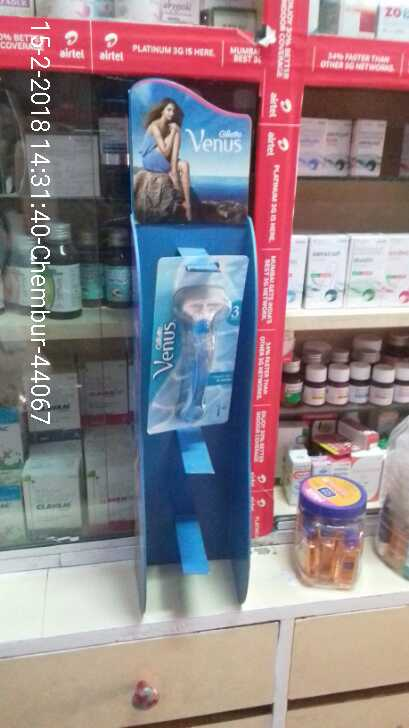venus: (156, 257, 246, 442)
